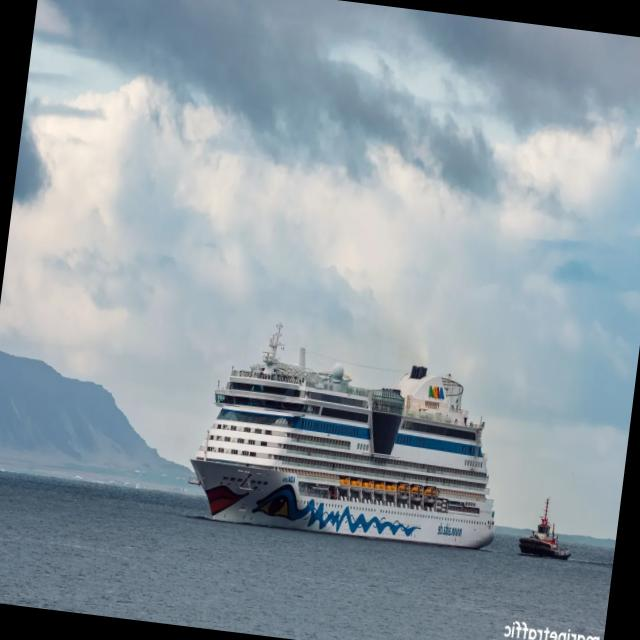Cruise: (191, 325, 494, 548)
Tug: (519, 498, 570, 558)
